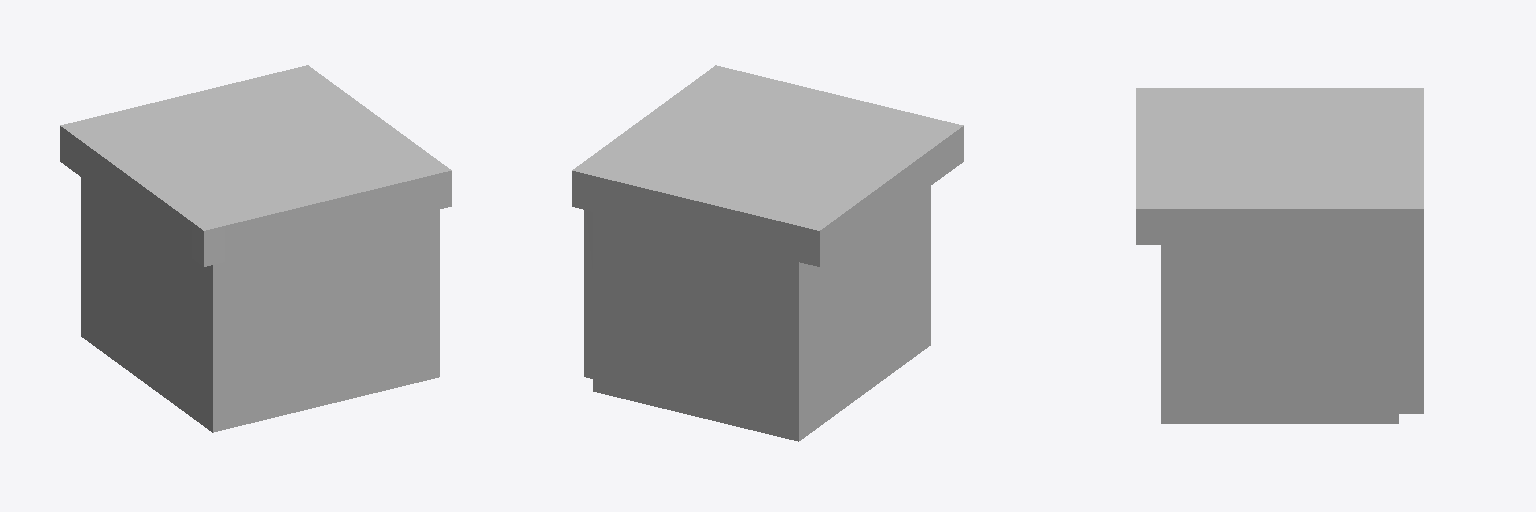
Rendered from Bench Corner 1.obj.
3 renders of one model, left to right at view 1: azimuth 30°, elevation 25°; view 2: azimuth 150°, elevation 25°; view 3: azimuth 270°, elevation 25°, orthographic.
Parts seen in each view (by area): view 1: Bench_Corner; view 2: Bench_Corner; view 3: Bench_Corner.
Part boxes in pixels (x1,y1,x2,y2): Bench_Corner: (60,65,451,432); Bench_Corner: (572,65,963,441); Bench_Corner: (1136,88,1423,423).
Bounding box in the file's own units: 8.84 × 7.35 × 8.9.